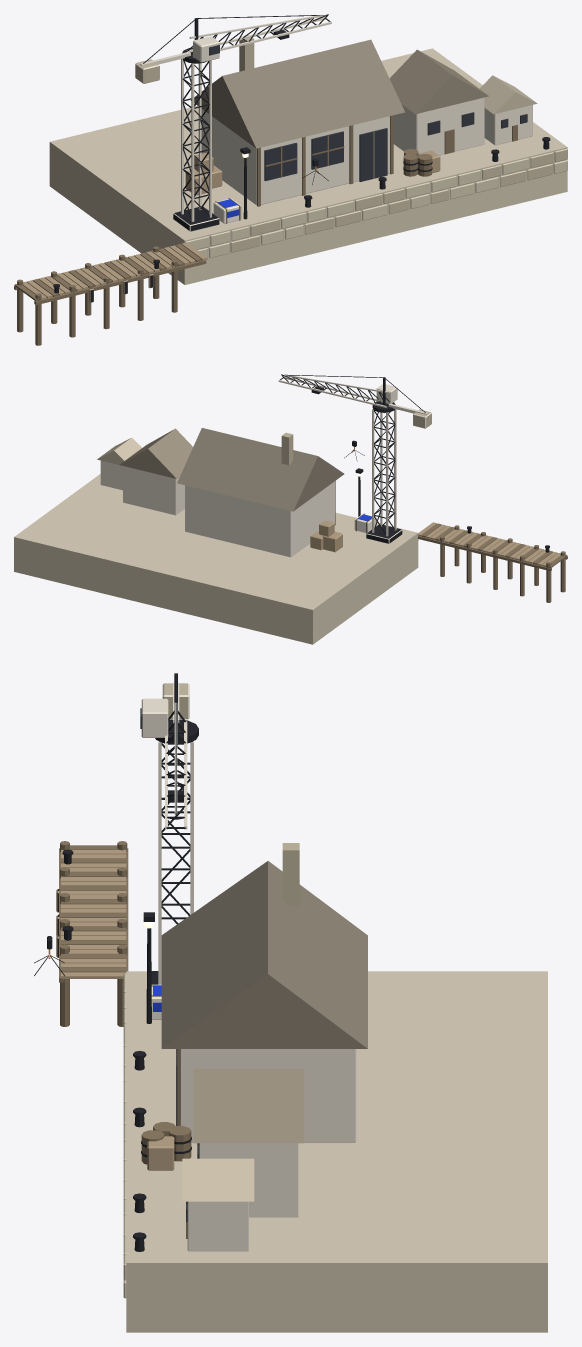
File: dock.glb
3 views of the same model, one above another, from view 1: azimuth 30°, elevation 25°; view 2: azimuth 150°, elevation 25°; view 3: azimuth 270°, elevation 25° (orthographic). The views are drawn at different scales.
Parts seen in each view (by area): view 1: QuayBlock, WorkshopRoof, Sheds, Workshop, QuayStones, Jetty, CraneTower, CraneJib, QuayProps, WorkshopWindow_0, WorkshopWindow_1, CraneCrateBody; view 2: QuayBlock, WorkshopRoof, Workshop, Sheds, Jetty, CraneTower, CraneJib, QuayProps; view 3: QuayBlock, WorkshopRoof, Sheds, Jetty, Workshop, CraneJib, QuayProps, CraneTower, QuayStones.
Boxes of the visible parts, left/top/right/bottom form: QuayBlock: left=49, top=48, right=567, bottom=284; WorkshopRoof: left=190, top=39, right=404, bottom=148; Sheds: left=389, top=49, right=537, bottom=155; Workshop: left=201, top=35, right=393, bottom=206; QuayStones: left=185, top=148, right=567, bottom=257; Jetty: left=14, top=243, right=207, bottom=345; CraneTower: left=173, top=59, right=219, bottom=231; CraneJib: left=135, top=14, right=331, bottom=83; QuayProps: left=185, top=137, right=550, bottom=219; WorkshopWindow_0: left=264, top=143, right=297, bottom=181; WorkshopWindow_1: left=311, top=131, right=344, bottom=169; CraneCrateBody: left=213, top=198, right=241, bottom=223; QuayBlock: left=14, top=474, right=418, bottom=644; WorkshopRoof: left=177, top=428, right=344, bottom=511; Workshop: left=185, top=432, right=335, bottom=557; Sheds: left=97, top=428, right=192, bottom=515; Jetty: left=418, top=522, right=567, bottom=602; CraneTower: left=366, top=408, right=402, bottom=543; CraneJib: left=278, top=374, right=431, bottom=428; QuayProps: left=310, top=468, right=363, bottom=552; QuayBlock: left=126, top=971, right=547, bottom=1332; WorkshopRoof: left=161, top=861, right=367, bottom=1048; Sheds: left=182, top=1068, right=304, bottom=1251; Jetty: left=56, top=841, right=128, bottom=1026; Workshop: left=176, top=843, right=356, bottom=1142; CraneJib: left=140, top=673, right=198, bottom=829; QuayProps: left=133, top=912, right=191, bottom=1251; CraneTower: left=151, top=740, right=193, bottom=984; QuayStones: left=123, top=973, right=126, bottom=1298.
Bounding box in the file's own units: 26 × 11.36 × 13.41.
